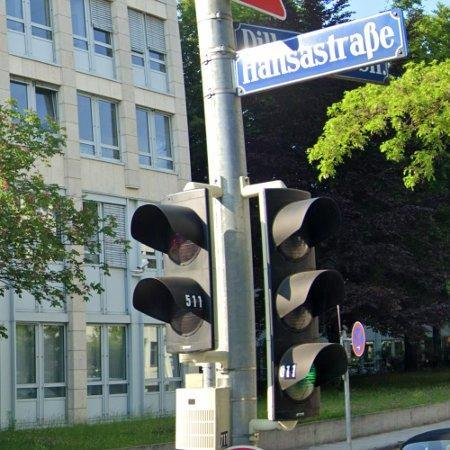traffic lights: (266, 188, 350, 422), (129, 187, 220, 353)
